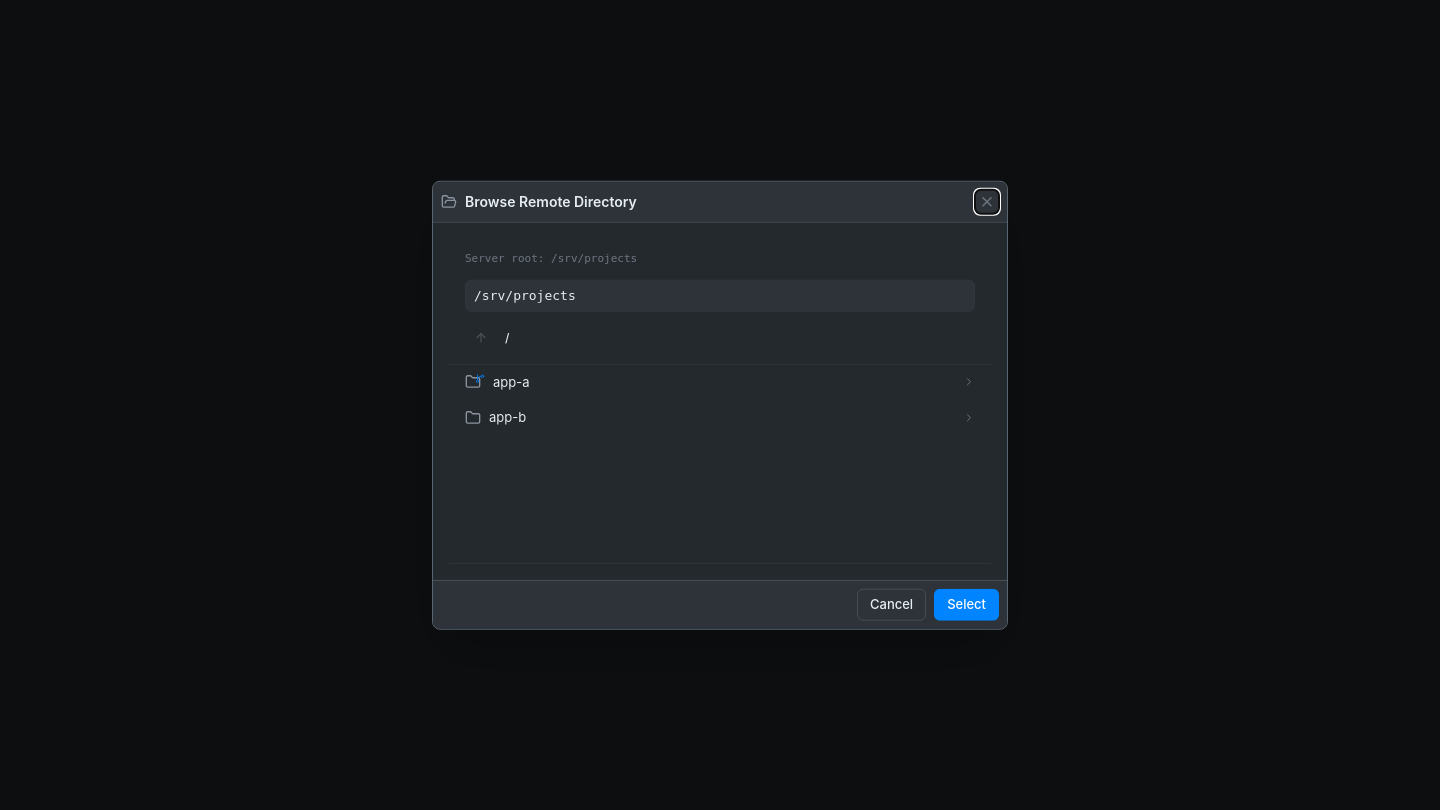
Test: RemoteFileBrowserDialog › navigates into a directory on click
Click the button with test id "dir-entry-app-a": (511, 381) [449,364,991,400]
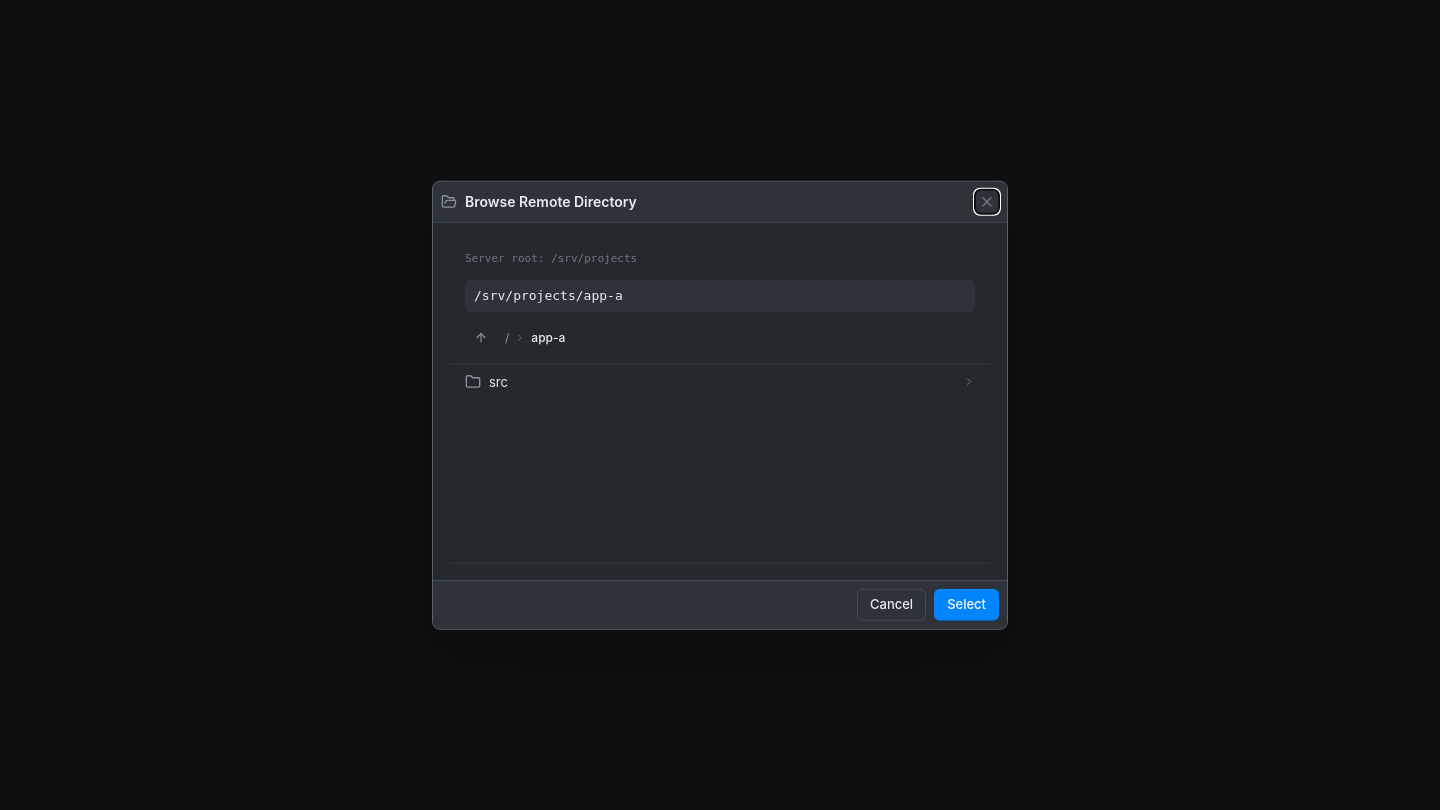
Check: the text "src" is shown, box [489,372,508,392]
